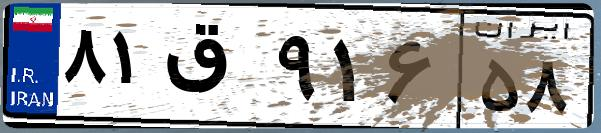1: (330, 28, 385, 110), (110, 28, 158, 98)
5: (475, 38, 525, 113)
6: (385, 28, 445, 110)
8: (57, 26, 110, 100), (525, 38, 570, 115)
9: (270, 28, 330, 110)
ق: (158, 20, 270, 120)
